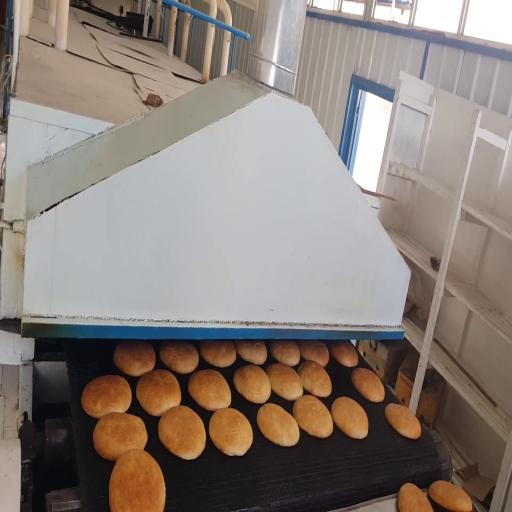bread: (109, 449, 165, 511), (159, 406, 206, 460), (93, 413, 147, 460), (209, 408, 253, 456), (82, 375, 131, 418), (136, 370, 181, 416), (257, 403, 299, 447), (188, 370, 231, 411), (293, 395, 333, 438), (331, 397, 368, 439), (114, 341, 155, 376), (234, 365, 271, 403), (267, 364, 303, 401), (429, 481, 472, 511), (385, 404, 421, 439), (160, 342, 198, 374), (298, 361, 331, 397), (351, 368, 385, 402), (398, 484, 433, 511), (200, 341, 236, 367), (235, 341, 267, 365), (329, 341, 358, 367), (299, 341, 329, 366), (270, 341, 300, 366)
